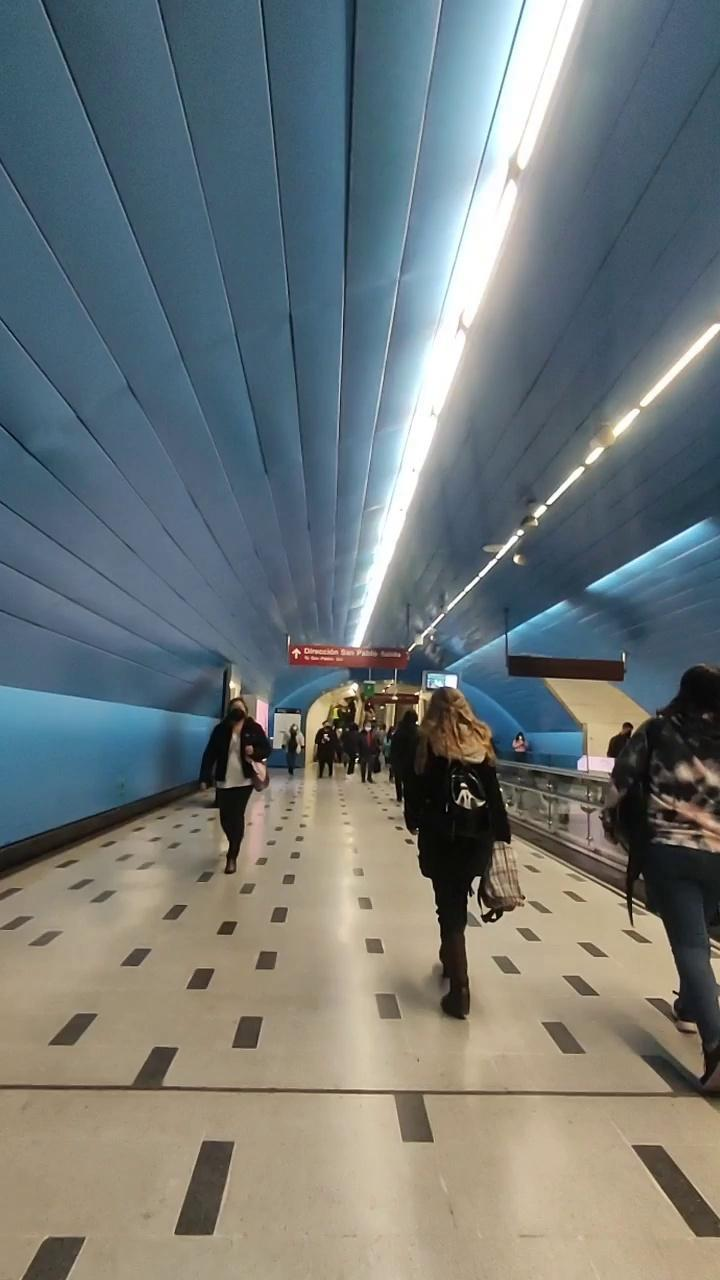up arrow: (292, 648, 301, 660)
